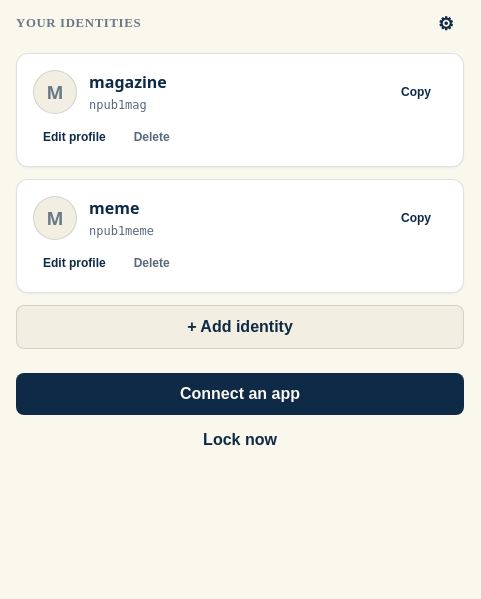
Test: Home › shows a clear inline error for a duplicate identity name, and keeps the form open
This screenshot has width=481, height=599.
Step 1. Click the button "+ Add identity" → [240, 327], box [16,305,464,349]
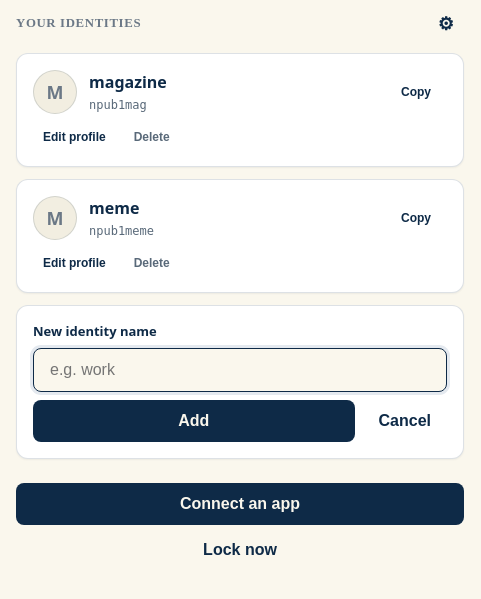
Step 2. Type "magazine" into the field labelled "New identity name" → [240, 370], box [33,348,447,392]
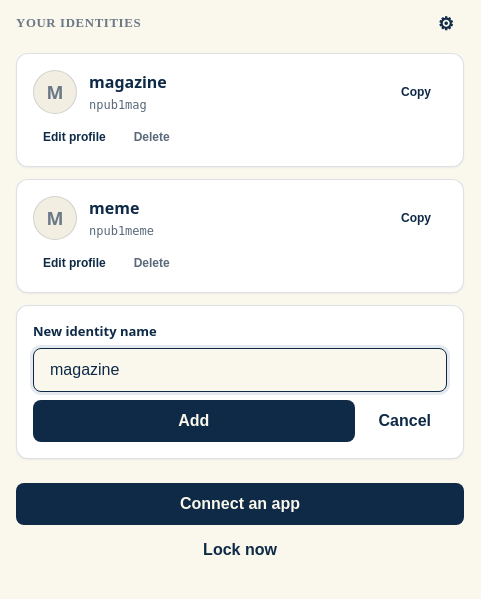
Step 3. Click the button "Add" → [194, 420], box [33,400,354,442]
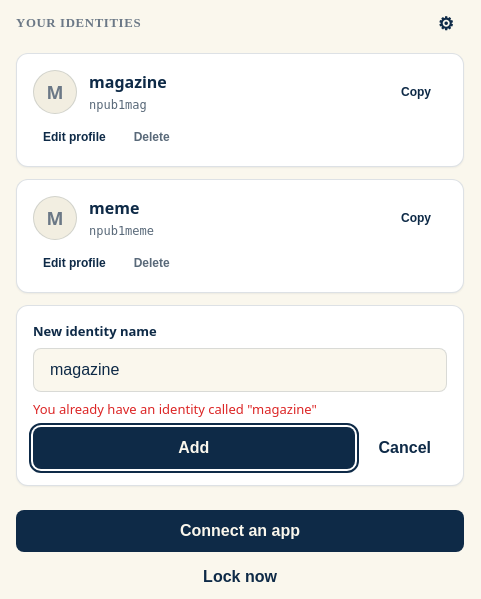
Now the text "You already have an identity called \"magazine\"" is shown, box [33,400,317,418]
